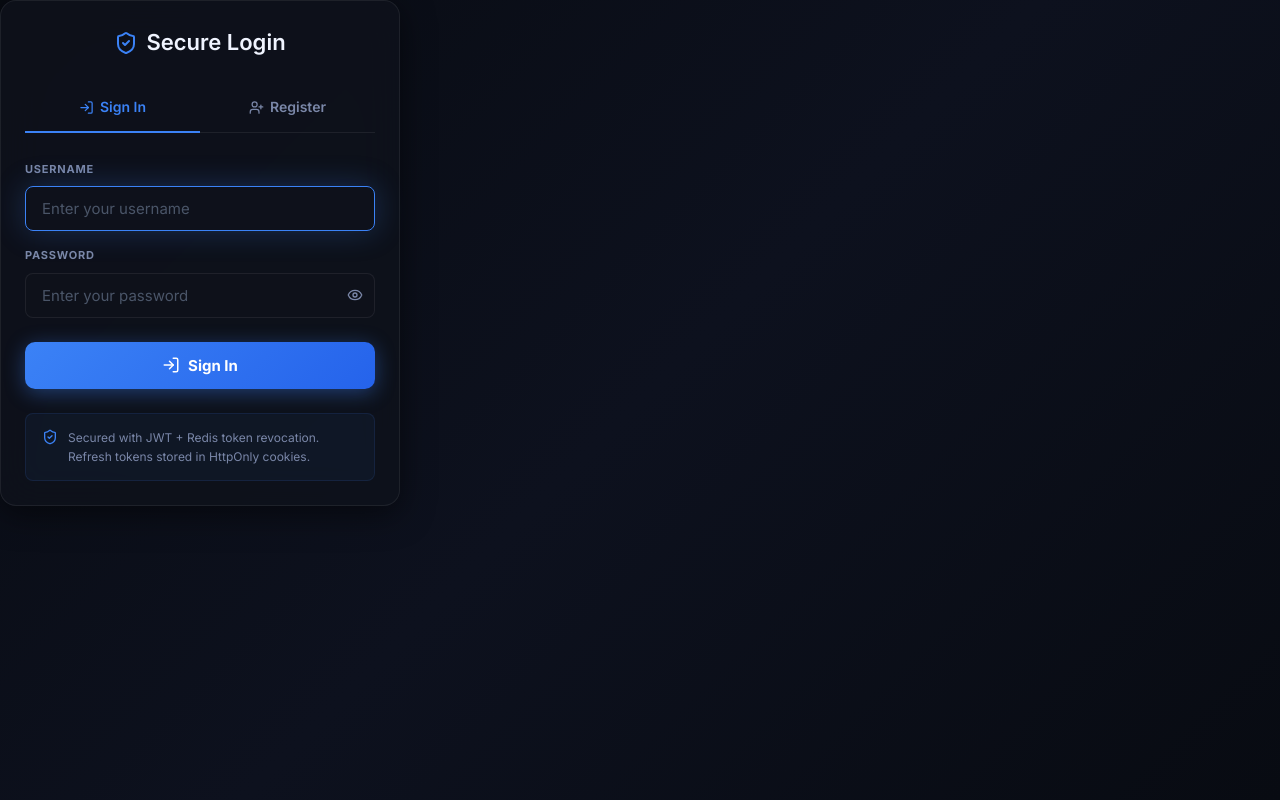
Test: LoginPanel › displays error on failed login
In the field labelled "Username": (200, 209) [25, 186, 375, 231], type "testuser"
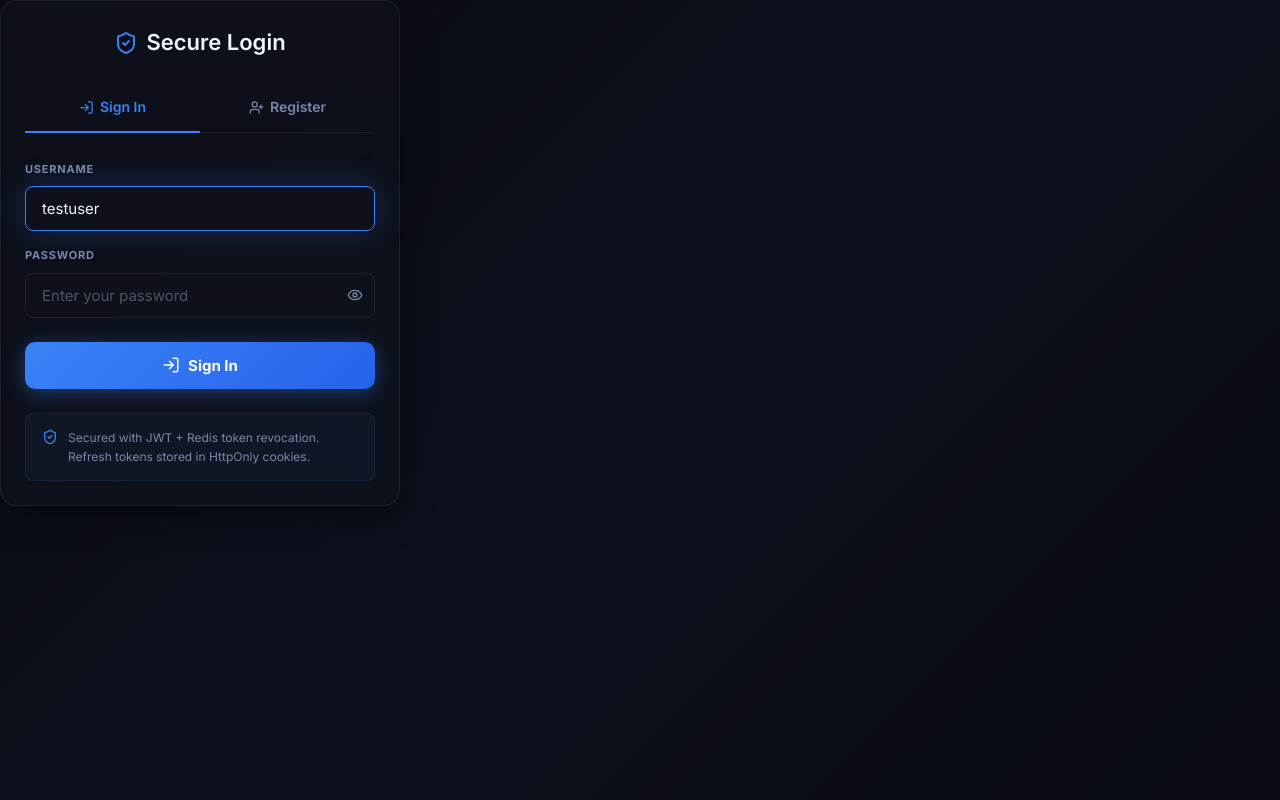
In the password field labelled "Password": (200, 295) [25, 273, 375, 318], type "wrongpass"
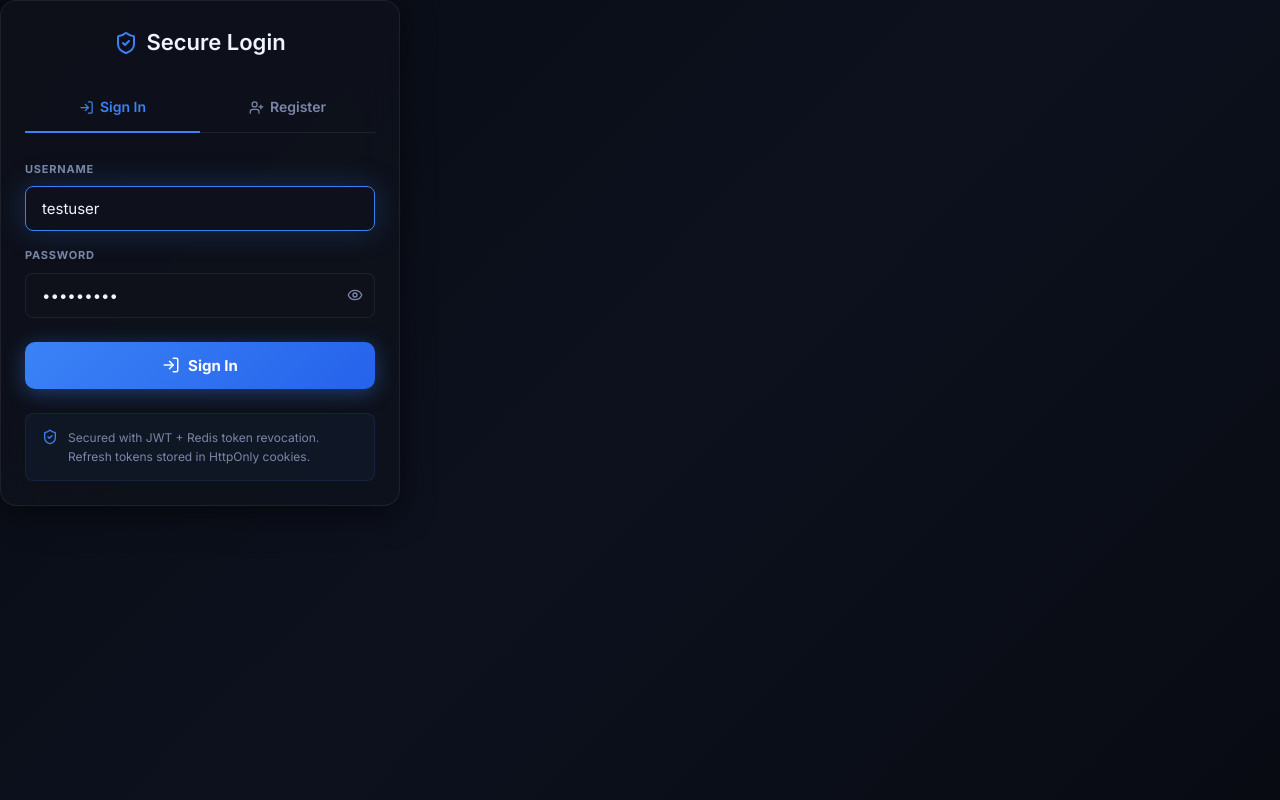
Click the button "Sign In": (200, 365) [25, 342, 375, 389]
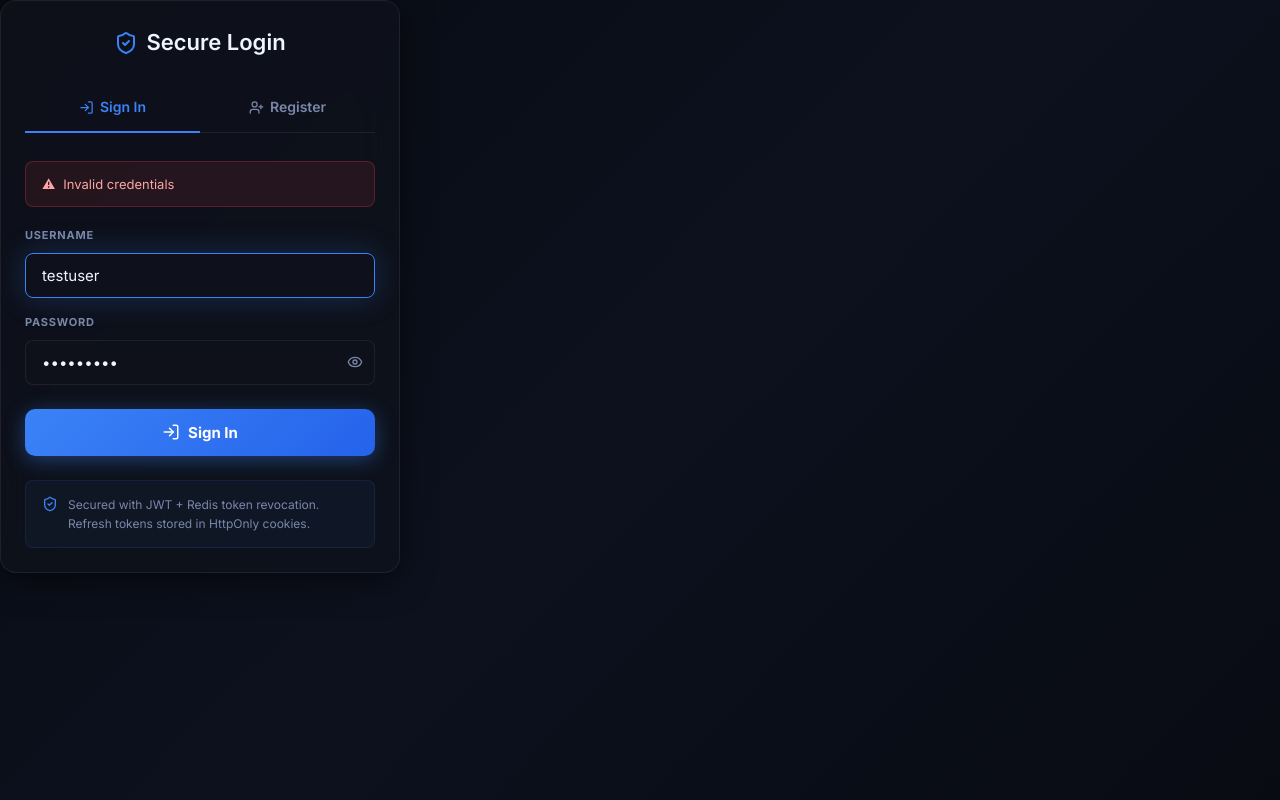
Expected: the text "Invalid credentials" is shown, [63, 174, 174, 194]
